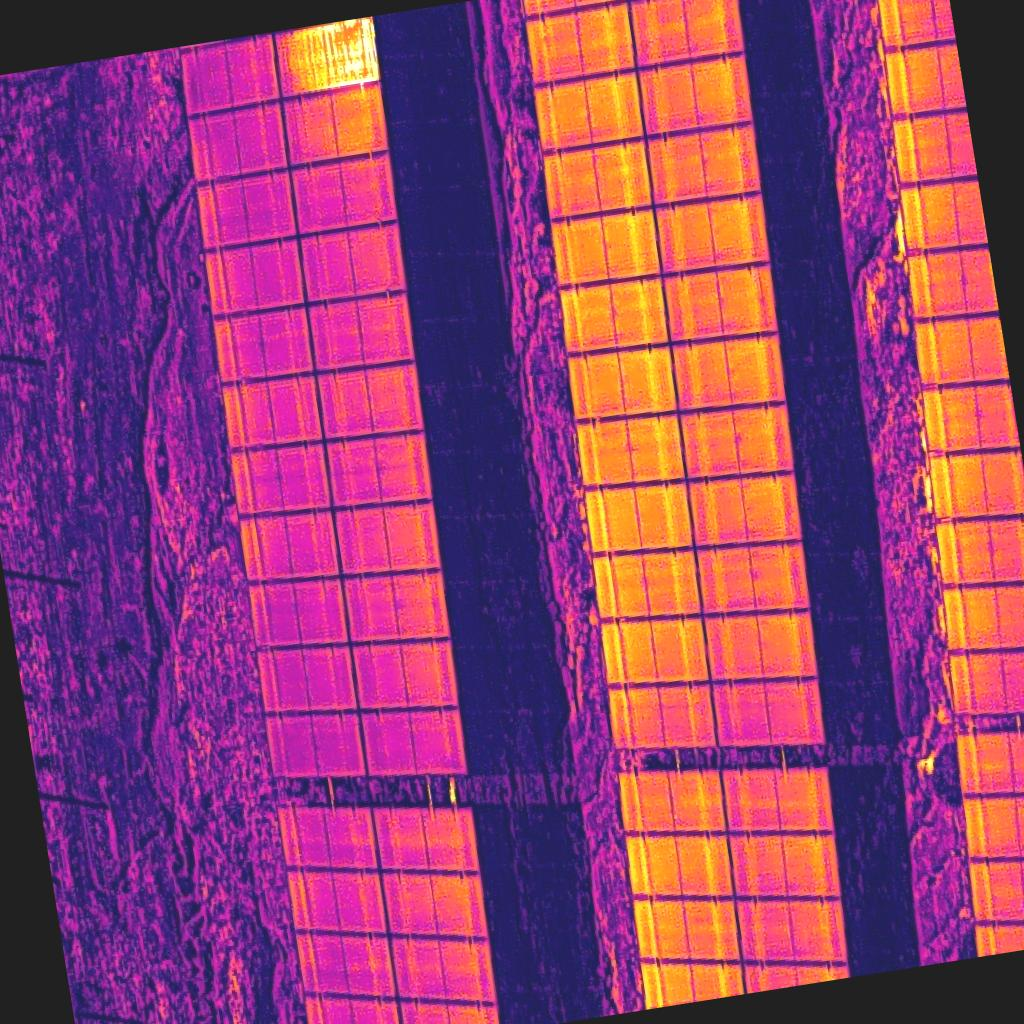panel: (653, 192, 770, 274), (282, 82, 388, 164), (687, 473, 802, 545), (202, 233, 304, 314), (273, 18, 376, 97), (713, 678, 825, 747), (575, 414, 685, 484), (359, 708, 463, 776), (601, 619, 709, 684), (383, 873, 487, 938)
